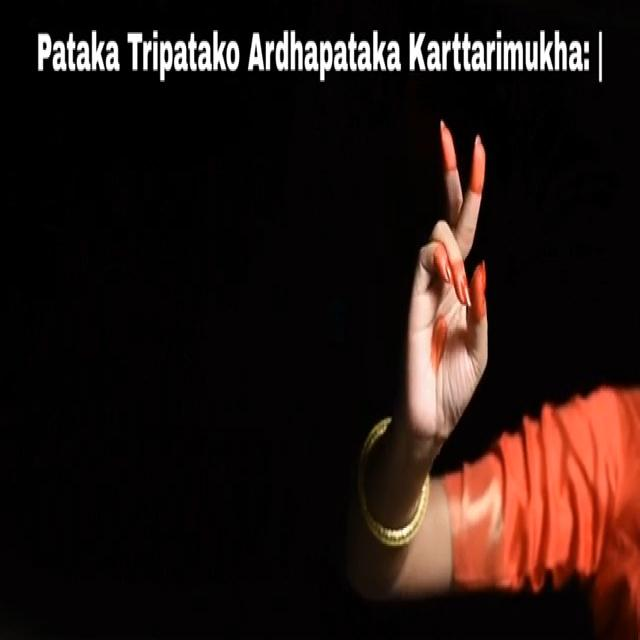Kartarimukha: (369, 108, 510, 437)
bangle: (348, 444, 438, 558)
text: (35, 10, 613, 94)
